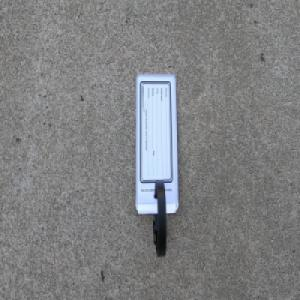LuggageTag: (132, 69, 180, 258)
